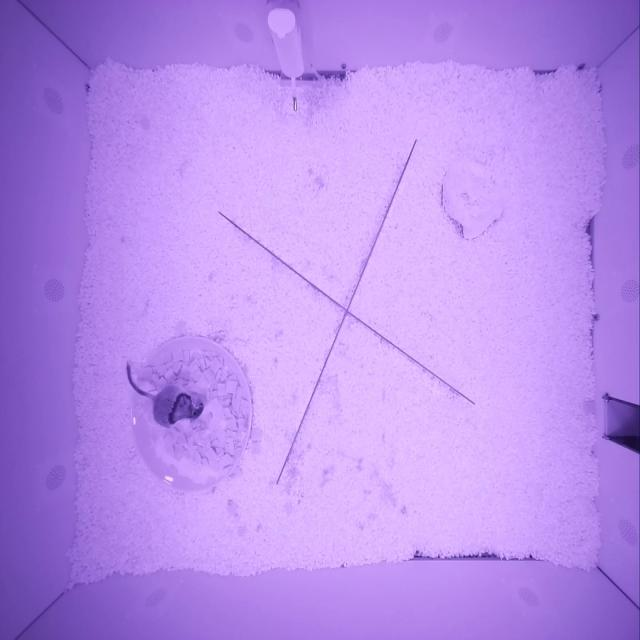adult_front: (153, 383, 205, 427)
